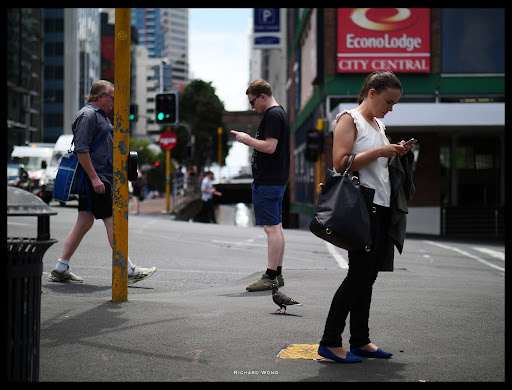person: (317, 72, 418, 363), (47, 78, 159, 287), (230, 77, 297, 294)
